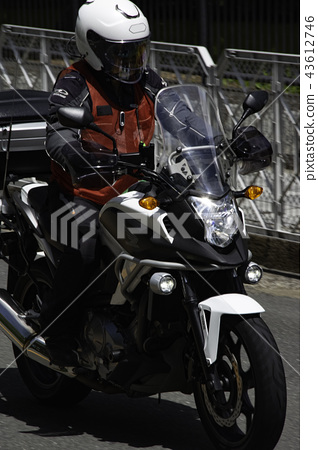helmet: (75, 3, 162, 81)
